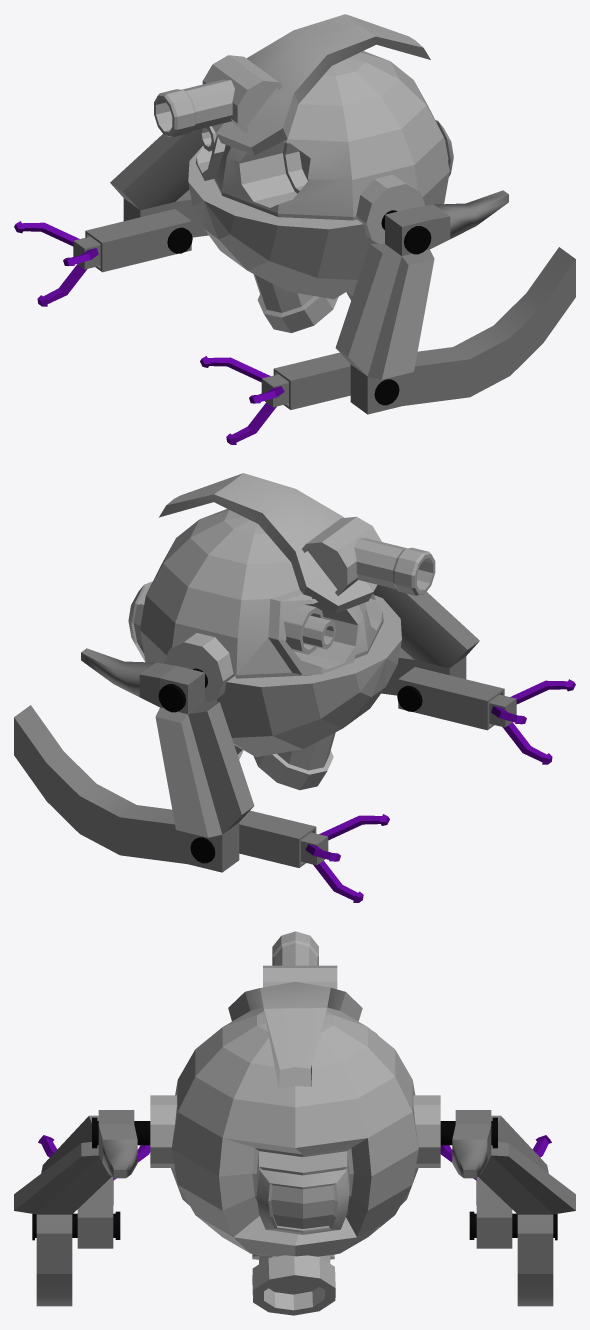
File: Boss Range Chip.fbx
The picture shows the model from 3 angles, top to bottom: view 1: azimuth 30°, elevation 25°; view 2: azimuth 150°, elevation 25°; view 3: azimuth 270°, elevation 25°; orthographic projection. The views are drawn at different scales.
Parts seen in each view (by area): view 1: pasted__pasted__Hand5, polySurface9, pasted__pSphere8, pCylinder23, pCylinder24, pCylinder12, pCylinder13; view 2: pasted__pasted__Hand5, polySurface9, pasted__pSphere8, pCylinder23, pCylinder24, pCylinder12, pCylinder11; view 3: polySurface9, pasted__pasted__Hand5, pCylinder15, pCylinder11, pCylinder13, pCylinder24, pCylinder23.
Boxes of the visible parts, x1,y1,x2,y2 form: pasted__pasted__Hand5: (14, 129, 575, 444); polySurface9: (195, 14, 453, 220); pasted__pSphere8: (188, 146, 378, 299); pCylinder23: (154, 79, 234, 137); pCylinder24: (202, 55, 282, 133); pCylinder12: (253, 274, 338, 332); pCylinder13: (356, 174, 425, 243); pasted__pasted__Hand5: (14, 585, 575, 902); polySurface9: (128, 473, 383, 678); pasted__pSphere8: (211, 595, 401, 757); pCylinder23: (354, 538, 435, 595); pCylinder24: (302, 516, 381, 595); pCylinder12: (253, 732, 335, 790); pCylinder11: (164, 633, 235, 701); polySurface9: (171, 981, 418, 1256); pasted__pasted__Hand5: (14, 1110, 575, 1306); pCylinder15: (252, 1255, 335, 1315); pCylinder11: (413, 1095, 440, 1167); pCylinder13: (150, 1095, 176, 1167); pCylinder24: (263, 965, 337, 989); pCylinder23: (272, 931, 318, 965).
Size of the model in its own units: 5.86 by 5.15 by 8.41.
